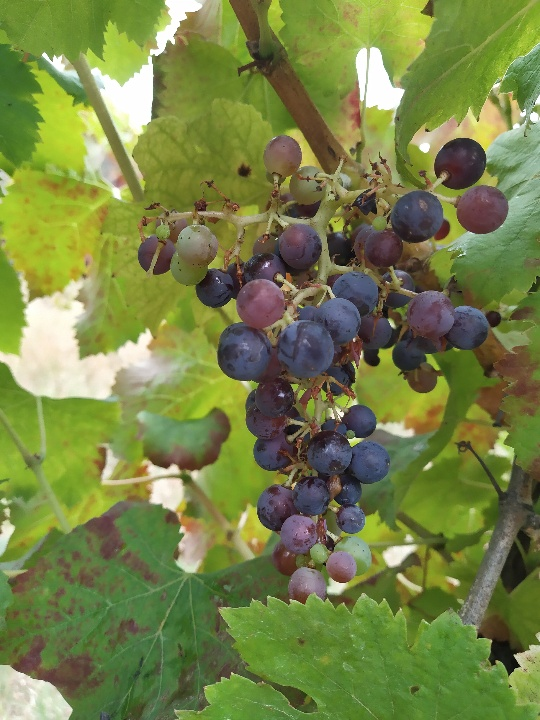grape: (133, 132, 505, 601)
